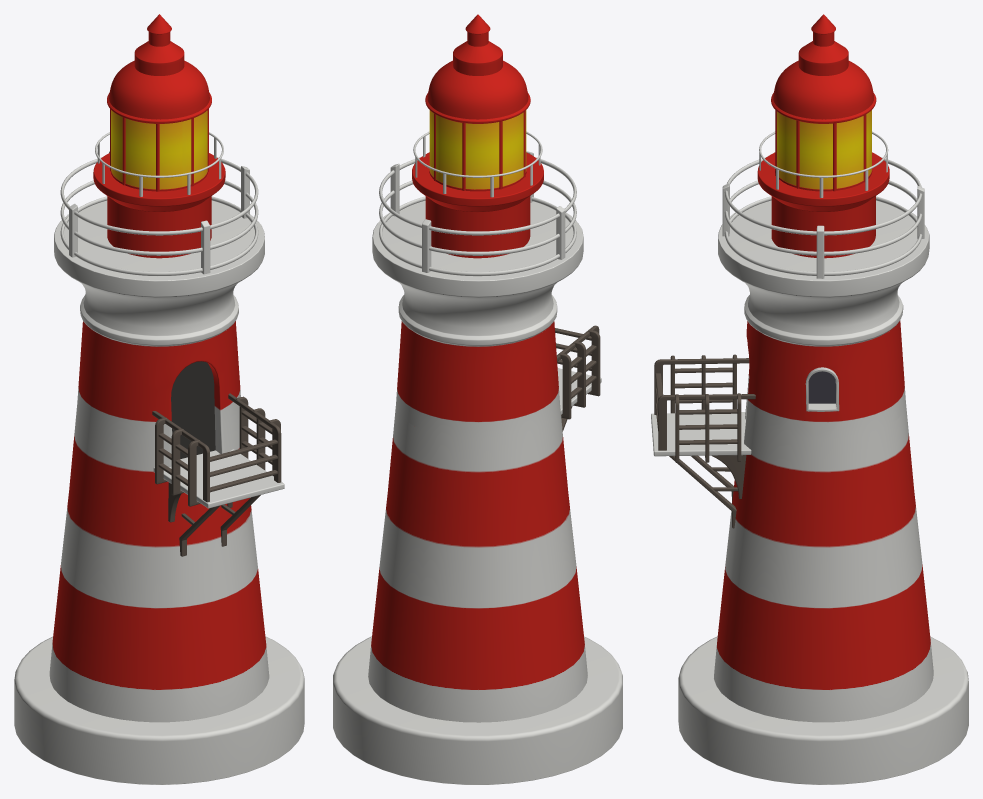
Rendered from Klassischer Leuchtturm.glb.
3 renders of one model, left to right at view 1: azimuth 30°, elevation 25°; view 2: azimuth 150°, elevation 25°; view 3: azimuth 270°, elevation 25°, orthographic.
Visible parts, largest first — view 1: lighthouse.1; view 2: lighthouse.1; view 3: lighthouse.1.
Boxes of the visible parts, <box> form: lighthouse.1: <box>14,14,304,784</box>; lighthouse.1: <box>333,14,622,784</box>; lighthouse.1: <box>651,14,968,784</box>.
Bounding box in the file's own units: 2.12 × 5.7 × 2.32.
Materials: 1 (1 with a texture image).
